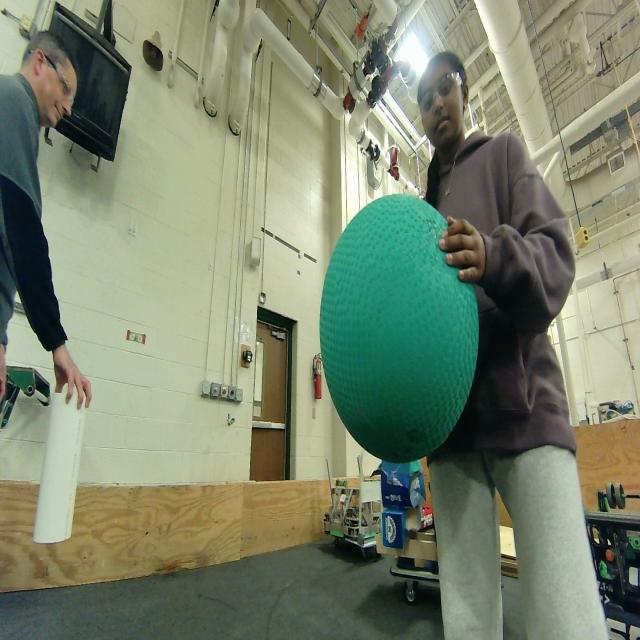algae: (319, 194, 478, 464)
coral: (33, 382, 94, 545)
